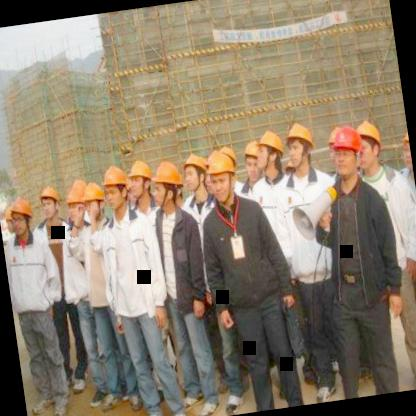helmet: (328, 125, 366, 181), (283, 116, 319, 174), (204, 147, 239, 205), (147, 158, 186, 208), (352, 118, 386, 172), (250, 127, 288, 174), (180, 148, 210, 197), (100, 162, 129, 212), (7, 192, 37, 238), (78, 179, 108, 223), (126, 156, 156, 198), (241, 136, 265, 181), (36, 182, 63, 222), (62, 186, 87, 224), (324, 124, 346, 167), (398, 126, 413, 172), (0, 200, 18, 235)
